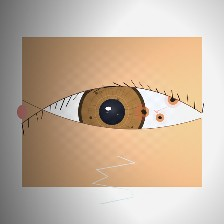foreign_body_visible: (158, 88, 188, 111)
